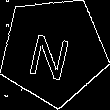N_N: (29, 21, 78, 80)
